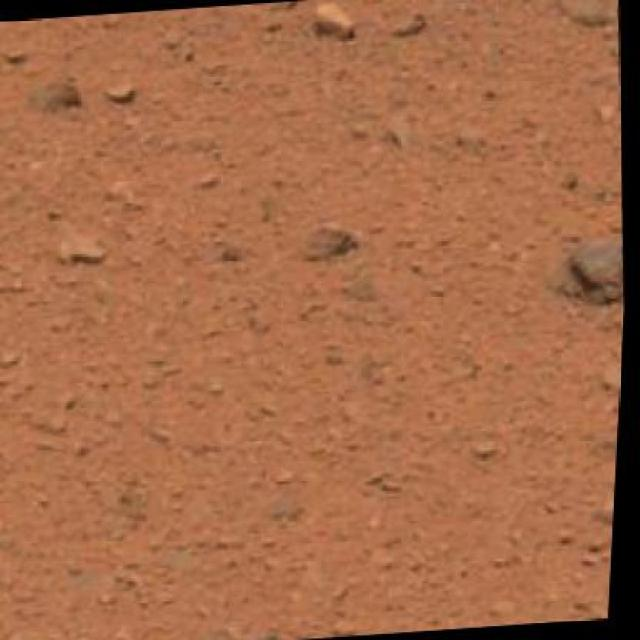rock: (35, 604, 614, 638), (549, 235, 628, 314)
